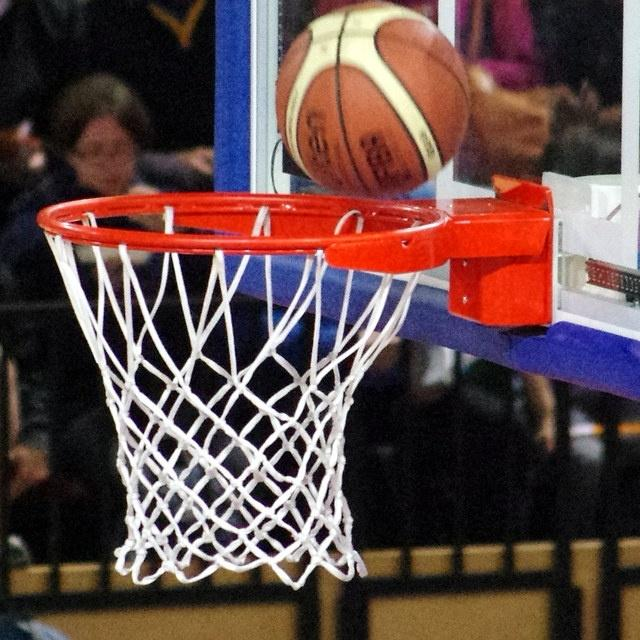basketball: (265, 0, 472, 189)
hoop: (42, 195, 499, 588)
